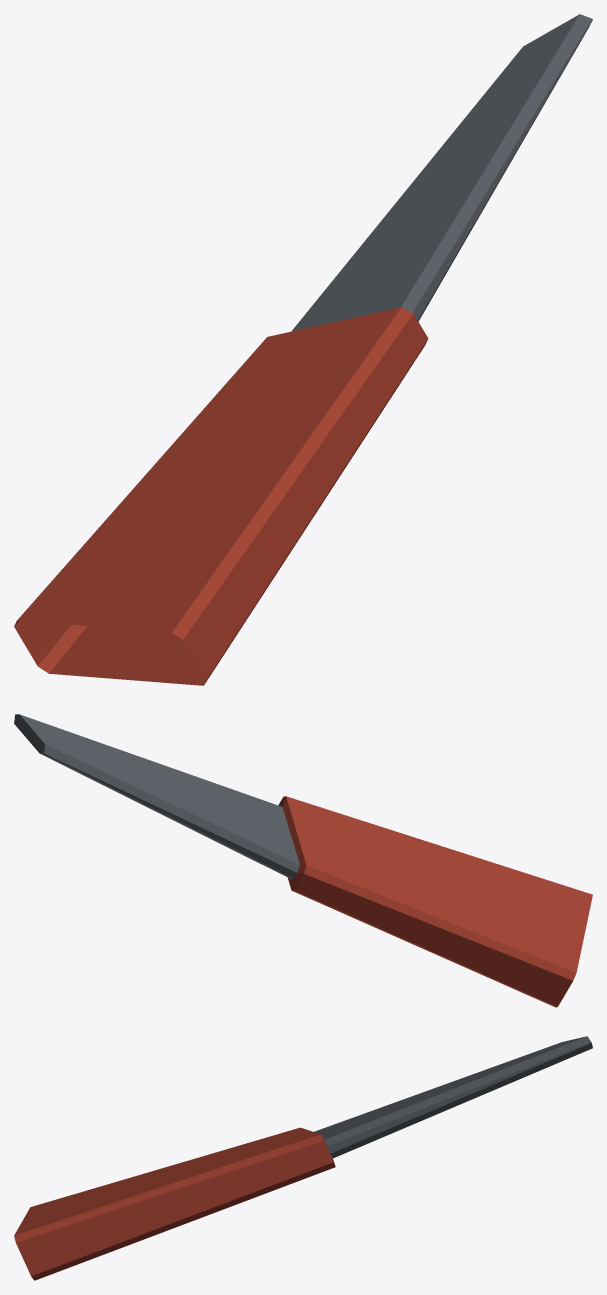
The model's file is Dropship_05_Wing_Left_Red.fbx.
3 renders of one model, top to bottom at view 1: azimuth 30°, elevation 25°; view 2: azimuth 150°, elevation 25°; view 3: azimuth 330°, elevation 25°, orthographic. The views are drawn at different scales.
Parts seen in each view (by area): view 1: Dropship_05_Wing_Left_Red; view 2: Dropship_05_Wing_Left_Red; view 3: Dropship_05_Wing_Left_Red.
Part boxes in pixels (left/top/right/bottom): Dropship_05_Wing_Left_Red: left=14, top=14, right=592, bottom=685; Dropship_05_Wing_Left_Red: left=14, top=714, right=592, bottom=1007; Dropship_05_Wing_Left_Red: left=14, top=1036, right=592, bottom=1280.
Bounding box in the file's own units: 452 × 234 × 274.
1 material, 1 textured.
